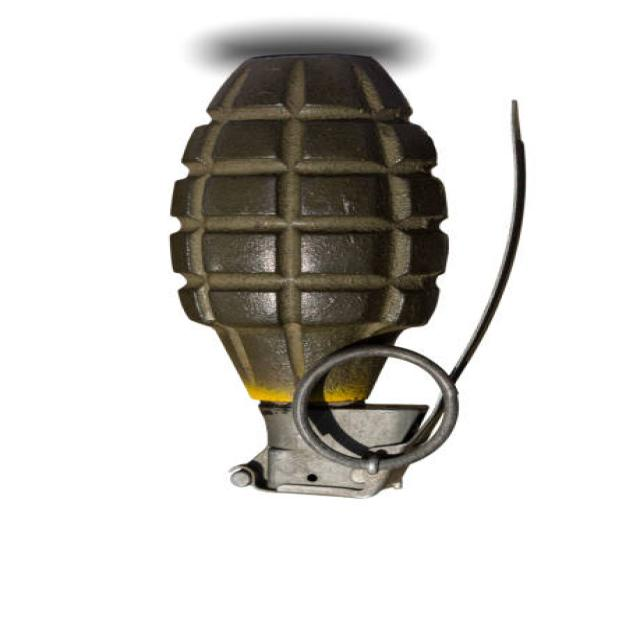grenade: (156, 43, 541, 515)
